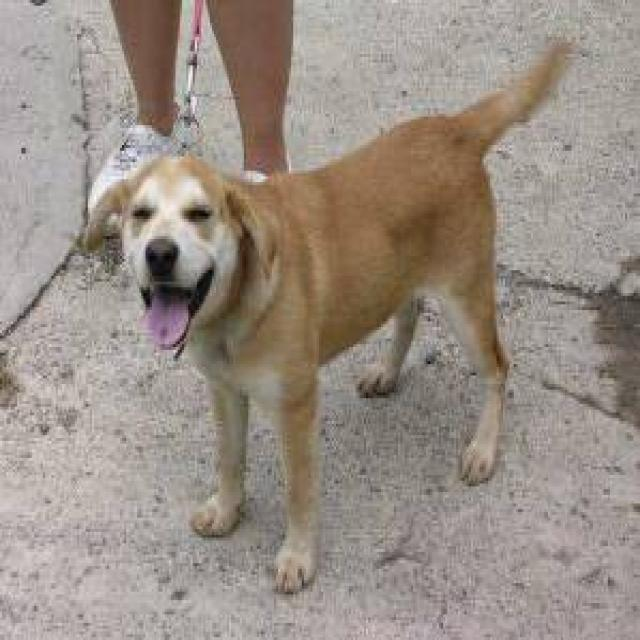dog: (79, 34, 574, 595)
